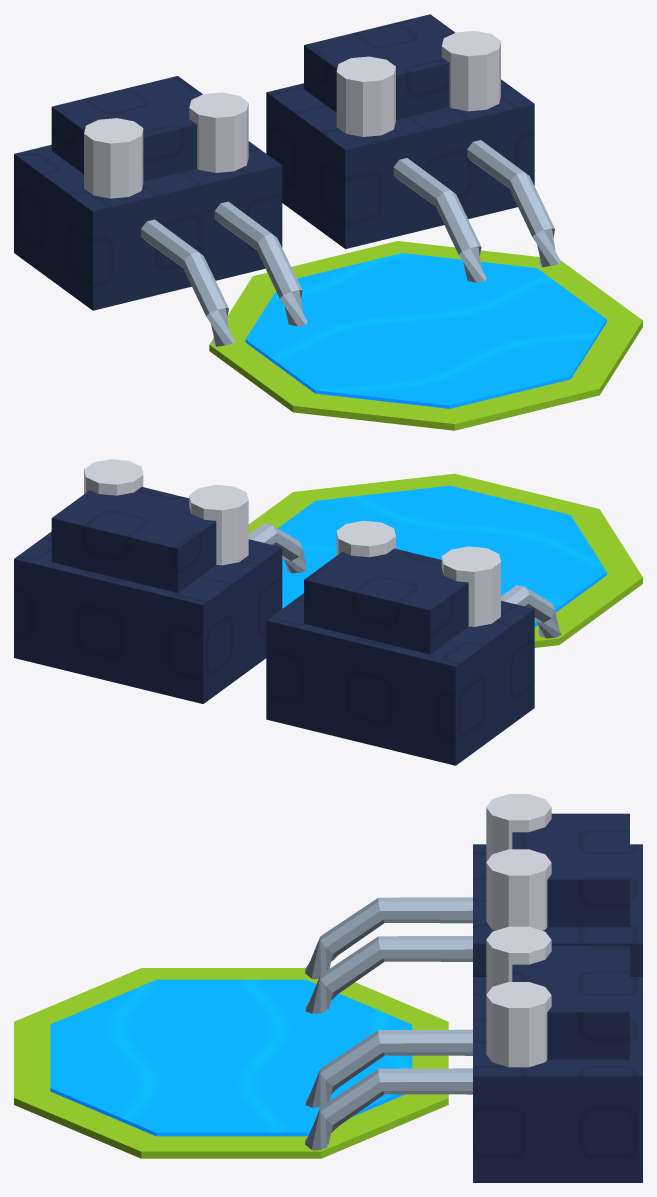
File: Grande_Station_Pompage.glb
3 views of the same model, one above another, from view 1: azimuth 30°, elevation 25°; view 2: azimuth 150°, elevation 25°; view 3: azimuth 270°, elevation 25° (orthographic). The views are drawn at different scales.
Parts seen in each view (by area): view 1: Grande_Station_Pompage; view 2: Grande_Station_Pompage; view 3: Grande_Station_Pompage.
Boxes of the visible parts, left/top/right/bottom form: Grande_Station_Pompage: left=14, top=14, right=642, bottom=430; Grande_Station_Pompage: left=14, top=459, right=642, bottom=765; Grande_Station_Pompage: left=14, top=794, right=642, bottom=1182.
Size of the model in its own units: 4.2 by 1.4 by 4.81.
Materials: 5 (2 with a texture image).
